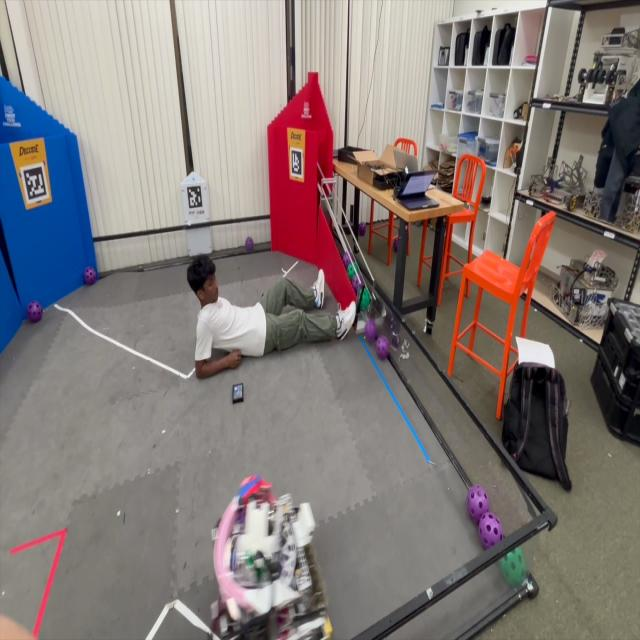artifact_green: (500, 548, 526, 586), (352, 274, 364, 296), (385, 307, 394, 329), (361, 289, 370, 310), (342, 251, 353, 268), (347, 264, 359, 279), (390, 333, 399, 349), (393, 239, 398, 252)
artifact_purple: (478, 512, 503, 550), (467, 486, 489, 524), (27, 301, 42, 323), (365, 319, 378, 343), (376, 336, 388, 359), (352, 273, 363, 294), (84, 267, 96, 285), (343, 251, 353, 268), (385, 308, 393, 328), (391, 332, 399, 349), (245, 237, 253, 252), (358, 223, 365, 236), (393, 239, 398, 252)
